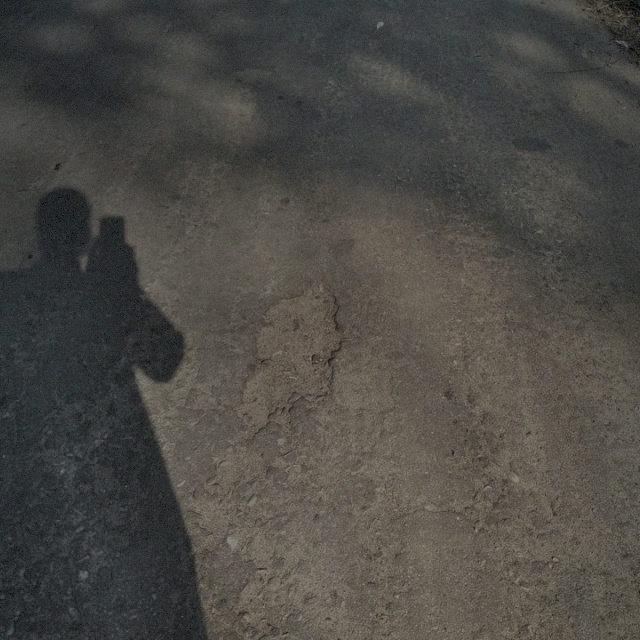pothole: (233, 278, 347, 431)
